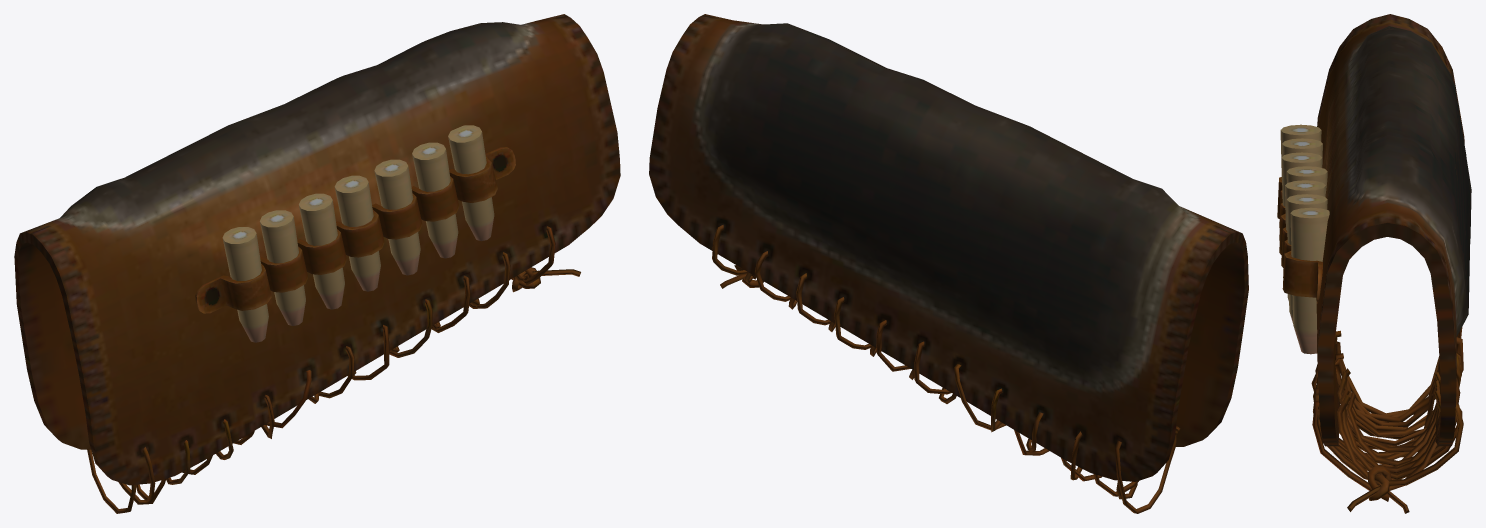
The model's file is ST_BLS_Winchester.FBX.
3 views of the same model, side by side, from view 1: azimuth 30°, elevation 25°; view 2: azimuth 150°, elevation 25°; view 3: azimuth 270°, elevation 25° (orthographic). The views are drawn at different scales.
Visible parts, largest first — view 1: ST_BLS_Winchester; view 2: ST_BLS_Winchester; view 3: ST_BLS_Winchester.
Boxes of the visible parts, <box> form: ST_BLS_Winchester: <box>14,14,620,513</box>; ST_BLS_Winchester: <box>649,14,1248,513</box>; ST_BLS_Winchester: <box>1277,14,1471,513</box>.
Size of the model in its own units: 21.59 by 14.64 by 5.46.
1 material, 1 textured.
